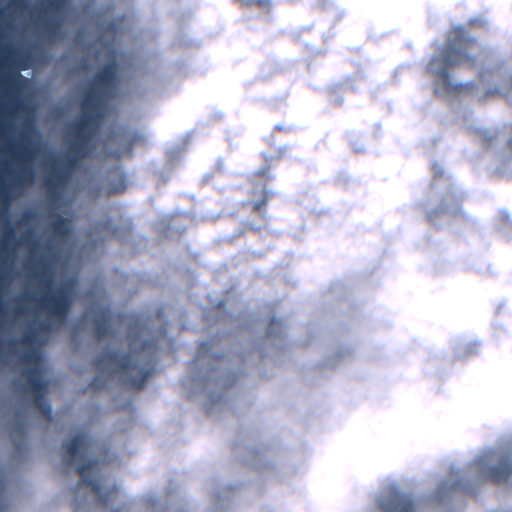Iceberg: (21, 69, 31, 78)
